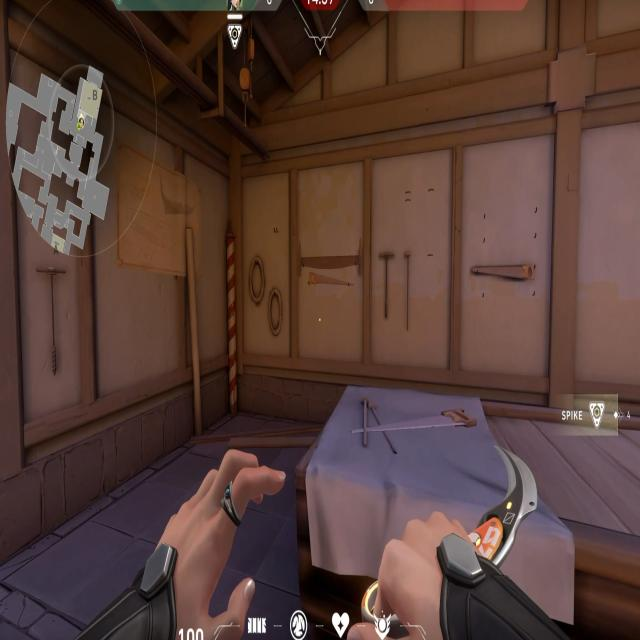B_Garage_Left: (104, 74, 394, 494)
